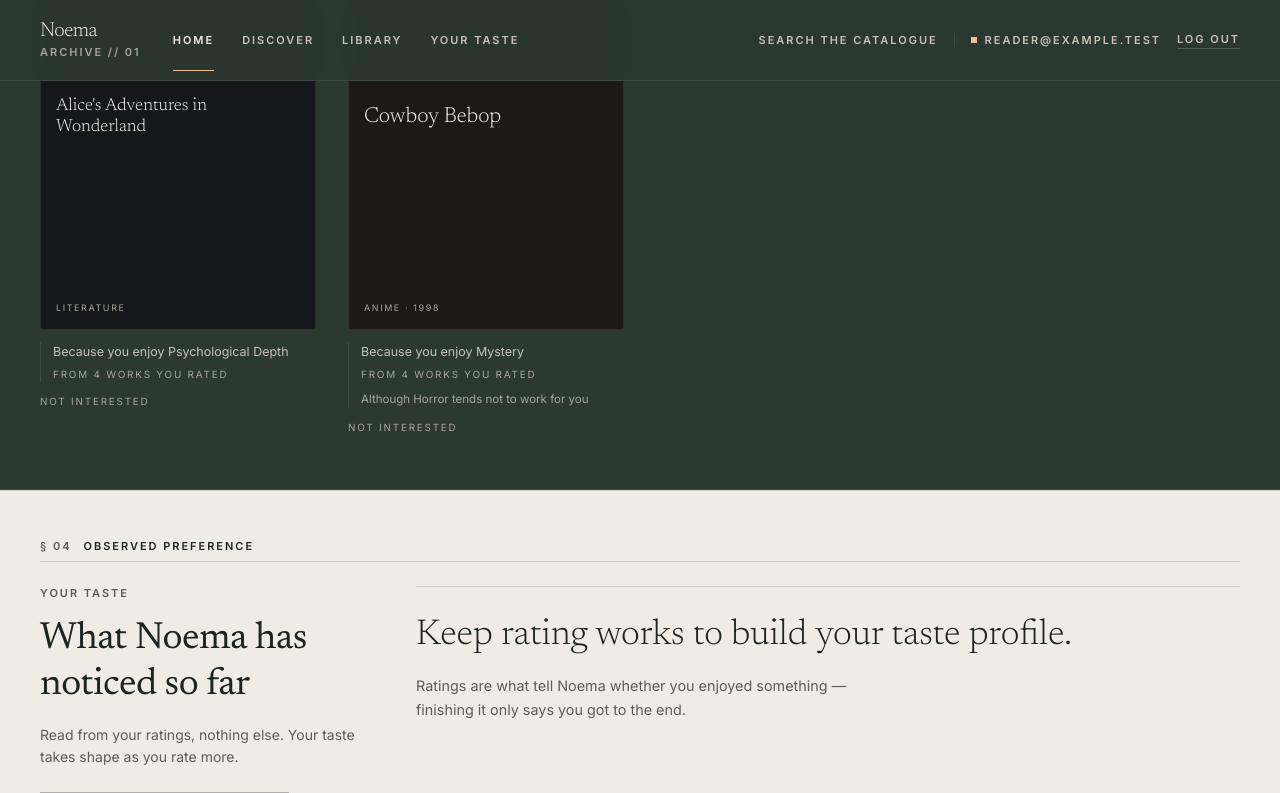
Scenario: Home, signed in › removes the card once the dismissal is saved
(page scrolled)
Expected: the text "Because you enjoy Psychological Depth" is shown, x1=53 y1=342 x2=316 y2=363
Click the button "Not interested" below "Because you enjoy Psychological Depth". click: (95, 401)
box: x1=40 y1=394 x2=150 y2=408
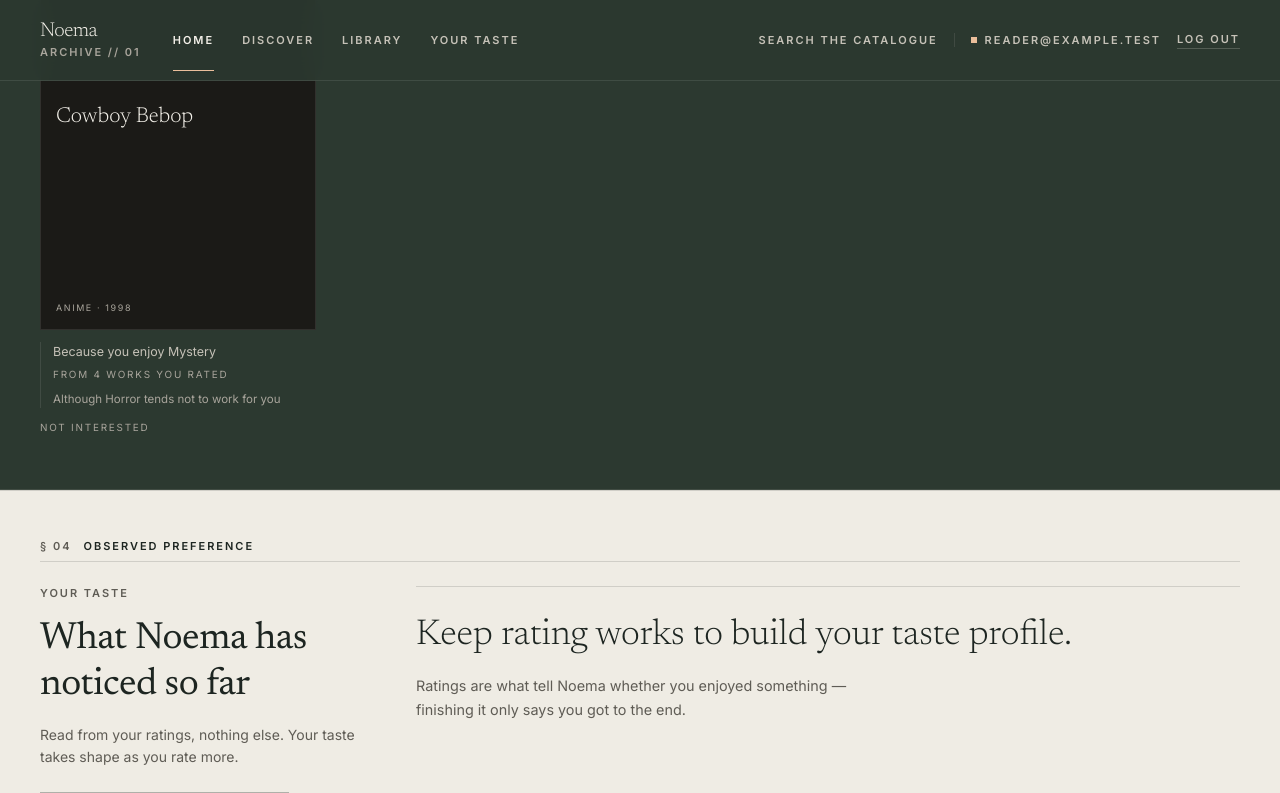
Expected: the text "Because you enjoy Mystery" is shown, x1=53 y1=344 x2=216 y2=359
Expected: the text "Because you enjoy Psychological Depth" is gone
